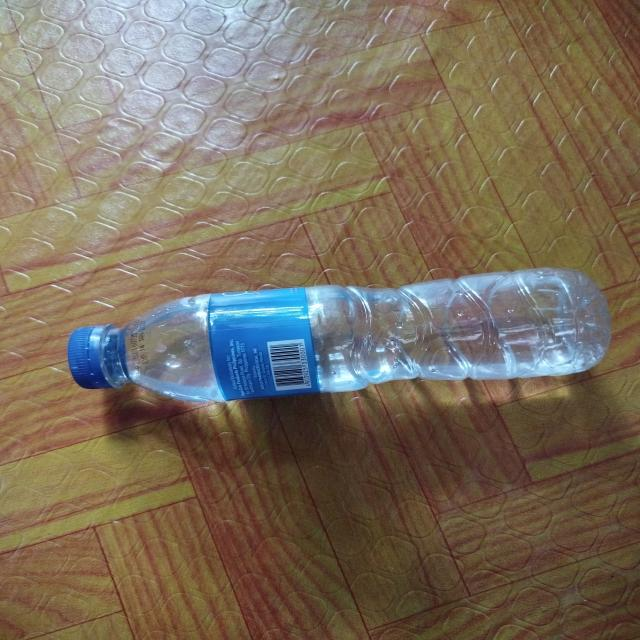plastic: (58, 255, 636, 417)
